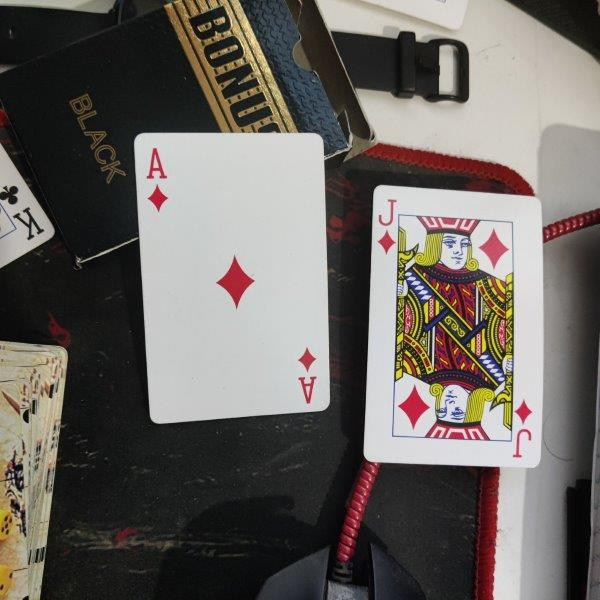Ace of Diamonds: (132, 131, 332, 425)
Jack of Diamonds: (363, 184, 543, 467)
King of Clubs: (1, 143, 55, 269)
